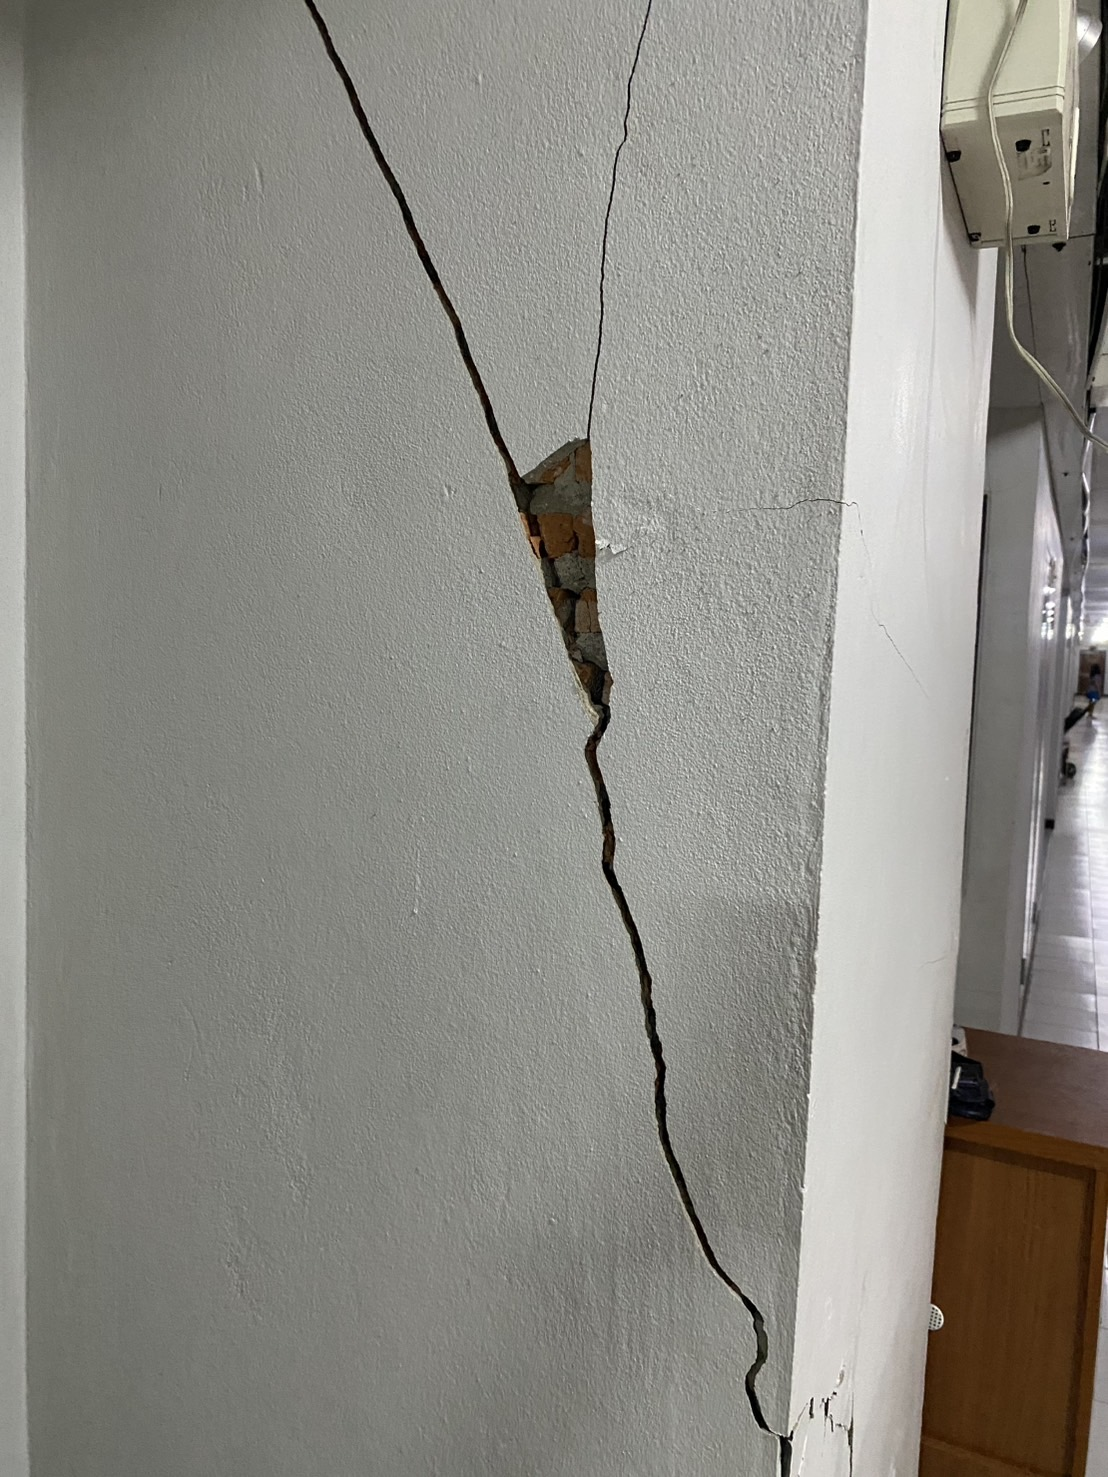Medium: (334, 111, 758, 1368)
